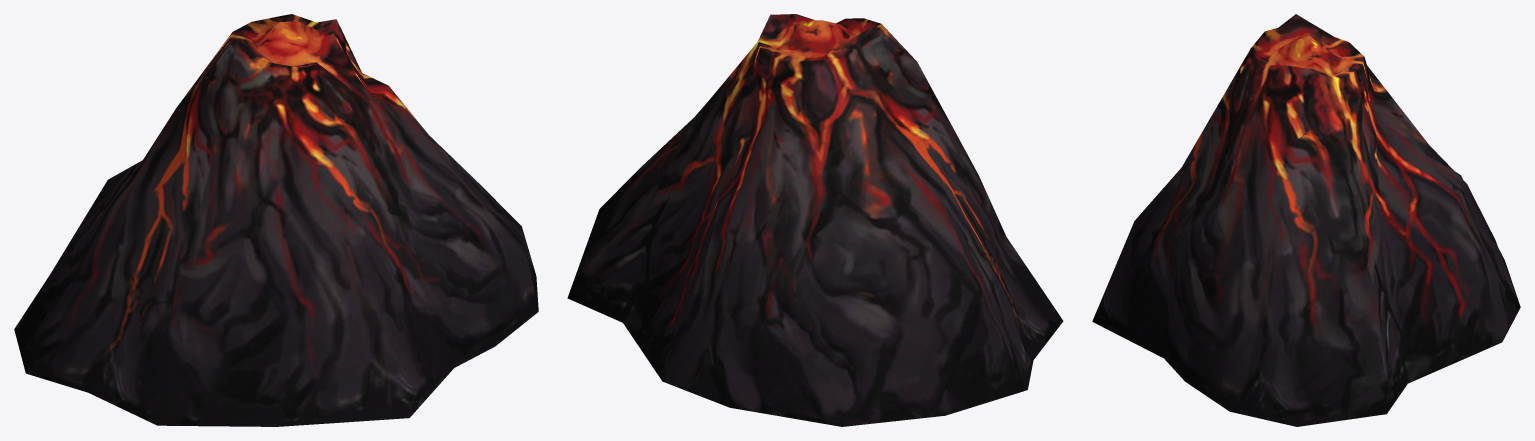
File: PRP_VolcanoSpawner.FBX
3 renders of one model, left to right at view 1: azimuth 30°, elevation 25°; view 2: azimuth 150°, elevation 25°; view 3: azimuth 270°, elevation 25°, orthographic. The views are drawn at different scales.
Visible parts, largest first — view 1: PRP_VolcanoSpawner; view 2: PRP_VolcanoSpawner; view 3: PRP_VolcanoSpawner.
Part boxes in pixels (x1,y1,x2,y2): PRP_VolcanoSpawner: (14,14,538,426); PRP_VolcanoSpawner: (567,14,1063,426); PRP_VolcanoSpawner: (1092,14,1520,426).
Bounding box in the file's own units: 232 × 144 × 197.
